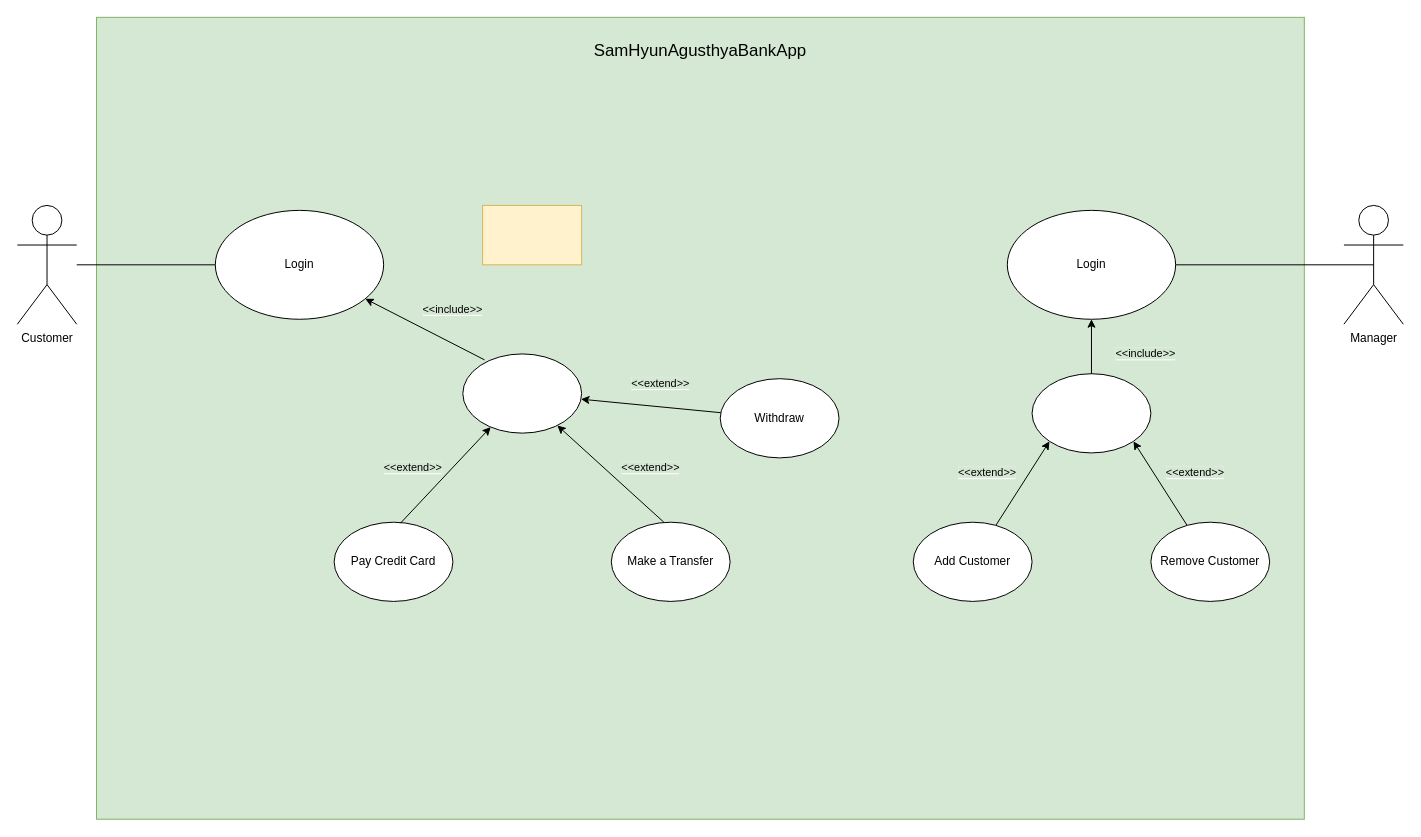
The diagram is 1421 pixels wide and 837 high, and some of its shapes have lost their labels. The centre of each missing label's shape, as x and y in pixels:
"Should we make this an include or extend?" goes at point (532, 234).
"View Accounts" goes at point (522, 393).
"View Customers" goes at point (1091, 413).
